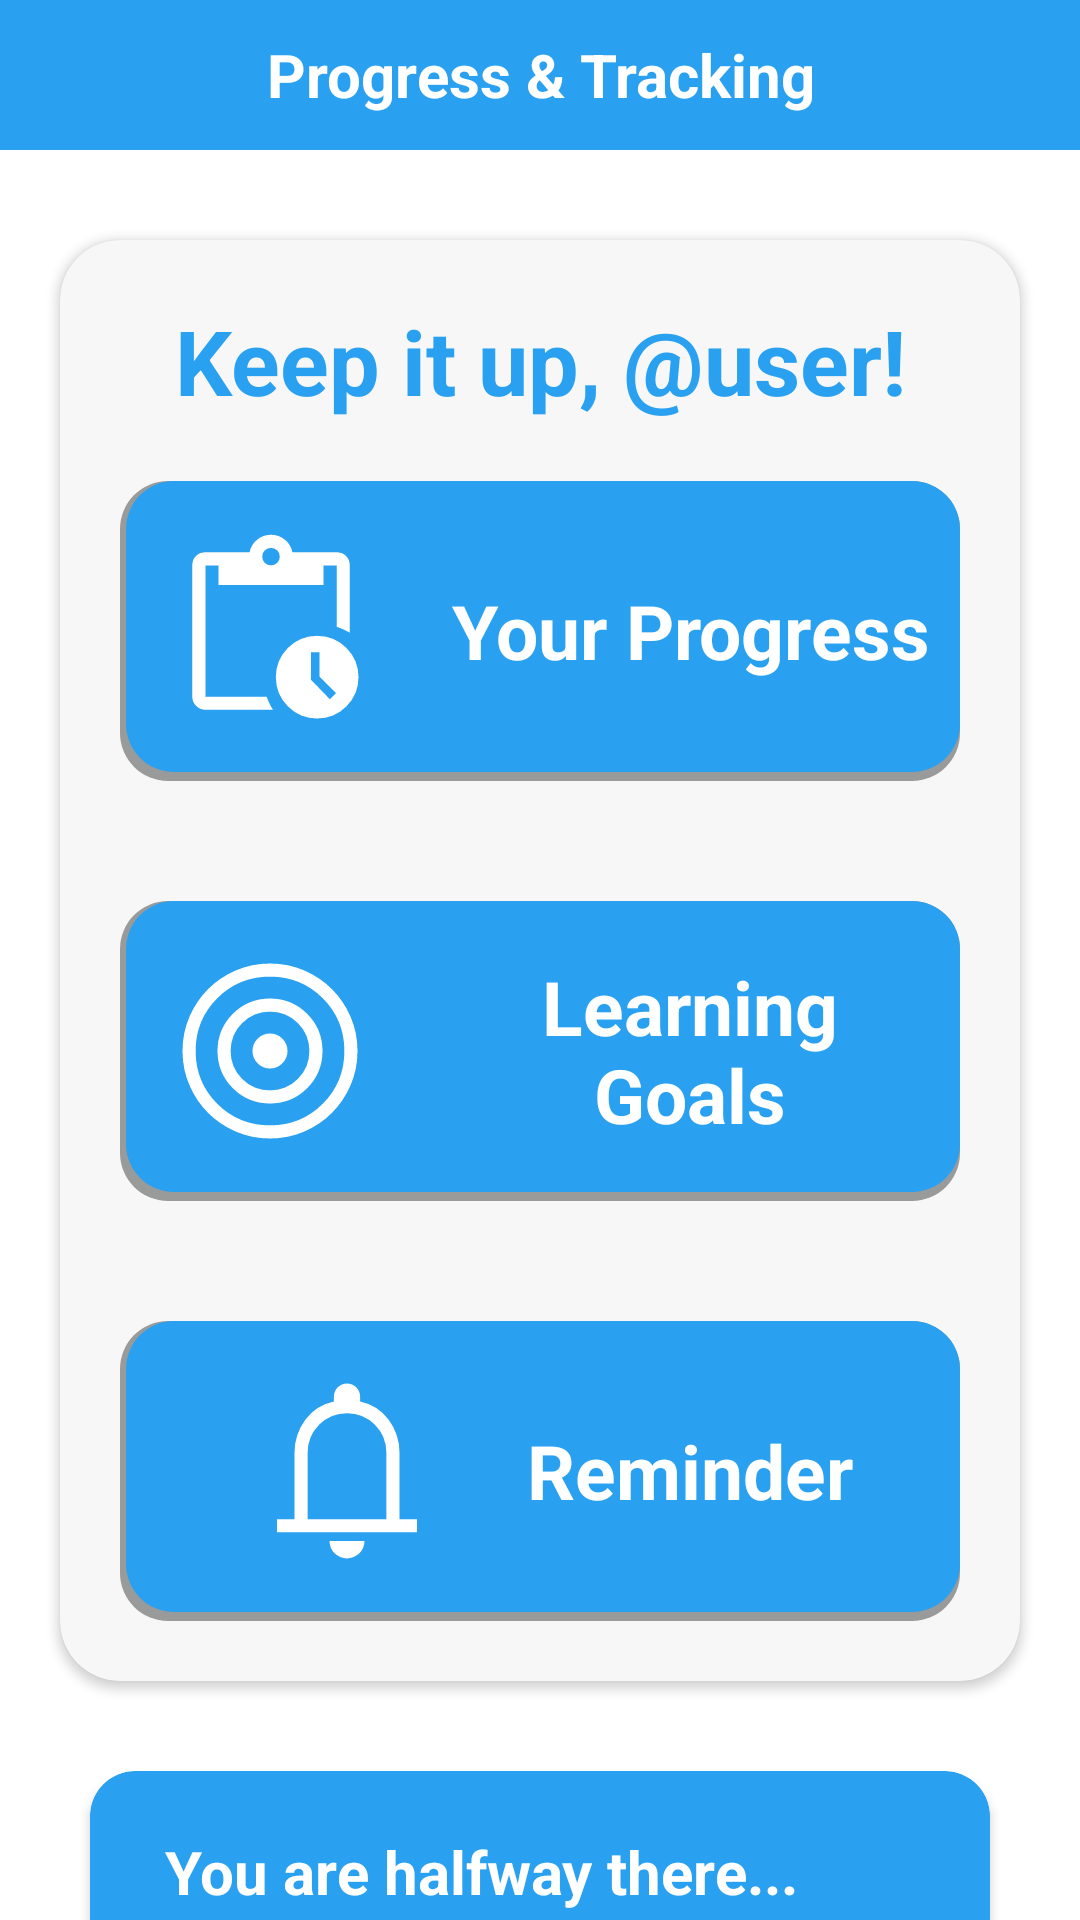

Where to tap for icons on this 1080*1920 app screen, as (x,y):
target: (270,1051)
